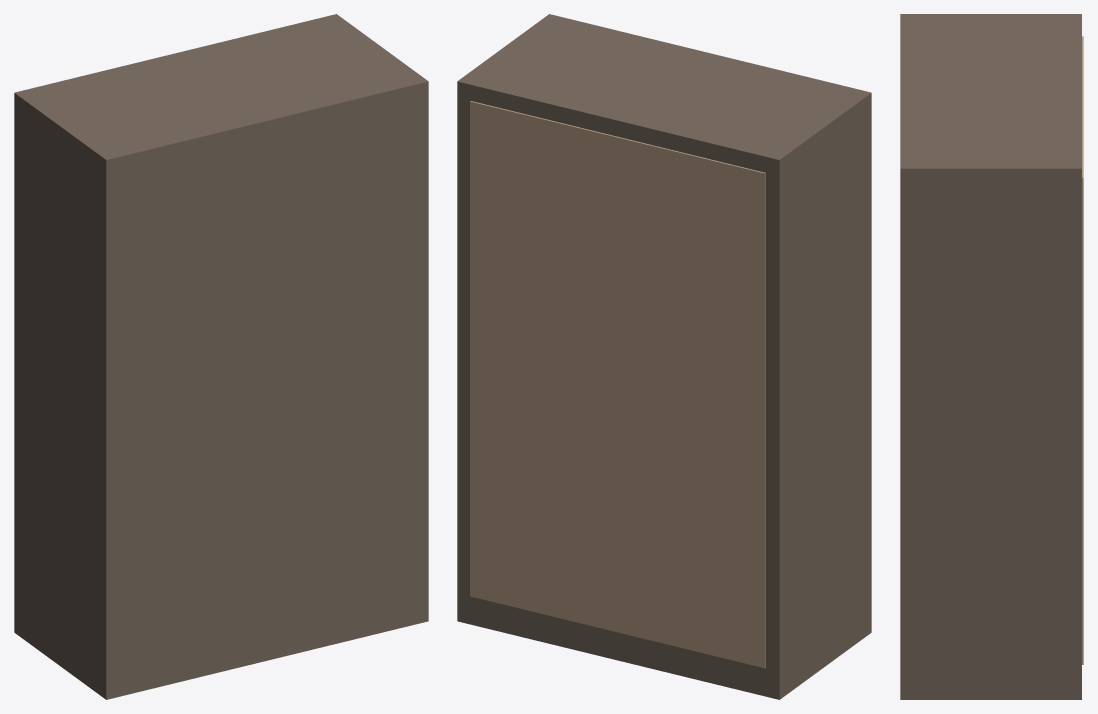
The model's file is wardrobe.glb.
3 views of the same model, side by side, from view 1: azimuth 30°, elevation 25°; view 2: azimuth 150°, elevation 25°; view 3: azimuth 270°, elevation 25° (orthographic).
Parts seen in each view (by area): view 1: wood_dark; view 2: wood_light, wood_dark; view 3: wood_dark, wood_light.
Boxes of the visible parts, x1,y1,x2,y2 form: wood_dark: (14,14,428,699); wood_light: (470,101,765,668); wood_dark: (457,14,871,699); wood_dark: (900,14,1081,699); wood_light: (1082,36,1083,664).
Size of the model in its own units: 1.05 by 1.68 by 0.525.
